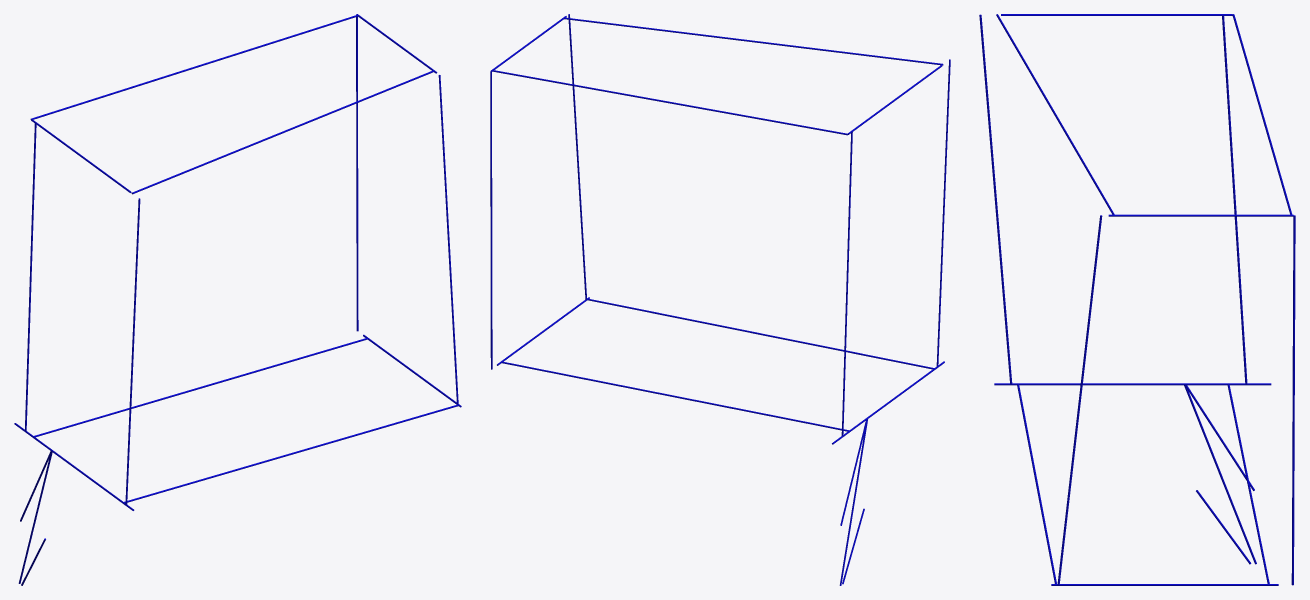
File: corrected_3d_strokes.glb
The picture shows the model from 3 angles, left to right: view 1: azimuth 30°, elevation 25°; view 2: azimuth 150°, elevation 25°; view 3: azimuth 270°, elevation 25°; orthographic projection. The views are drawn at different scales.
Visible parts, largest first — view 1: world; view 2: world; view 3: world.
Boxes of the visible parts, left/top/right/bottom form: world: left=14, top=14, right=461, bottom=585; world: left=490, top=14, right=950, bottom=585; world: left=979, top=14, right=1295, bottom=585.
Size of the model in its own units: 8.65 by 10.98 by 5.71.
